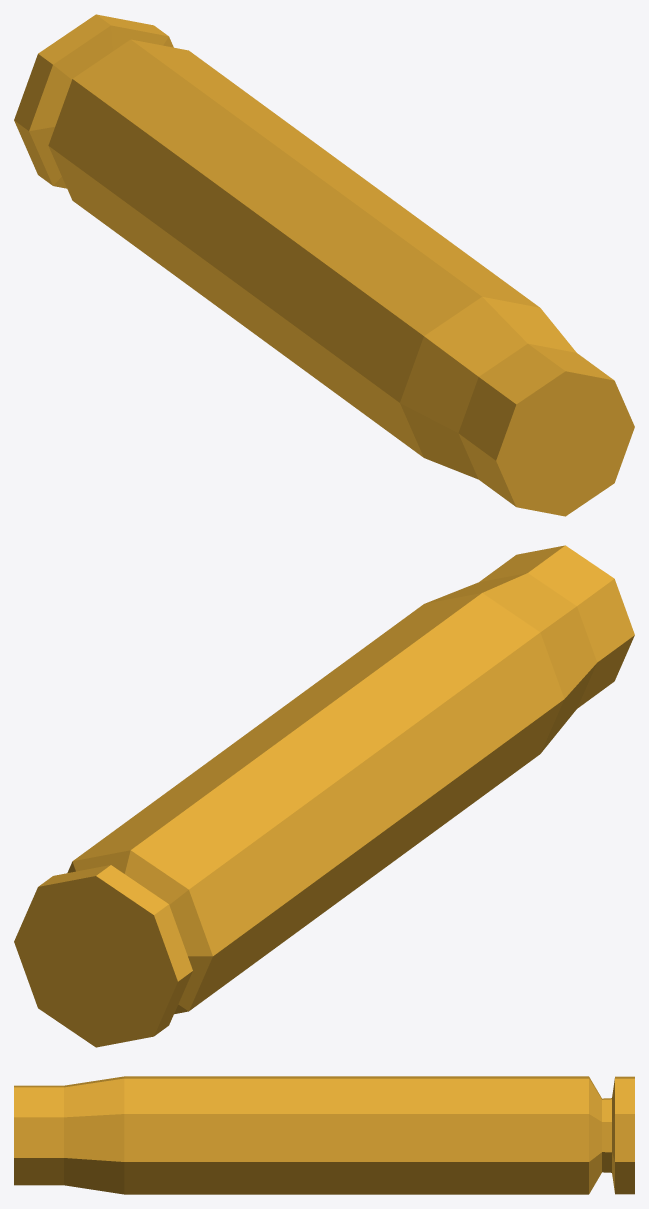
Rendered from M416_Bullet_Shell.fbx.
The picture shows the model from 3 angles, top to bottom: view 1: azimuth 30°, elevation 25°; view 2: azimuth 150°, elevation 25°; view 3: azimuth 270°, elevation 25°; orthographic projection. The views are drawn at different scales.
Parts seen in each view (by area): view 1: M416_Bullet_Shell; view 2: M416_Bullet_Shell; view 3: M416_Bullet_Shell.
Boxes of the visible parts, left/top/right/bottom form: M416_Bullet_Shell: left=14, top=14, right=634, bottom=516; M416_Bullet_Shell: left=14, top=545, right=634, bottom=1047; M416_Bullet_Shell: left=14, top=1076, right=634, bottom=1194.
Size of the model in its own units: 1.13 by 1.13 by 5.58.
